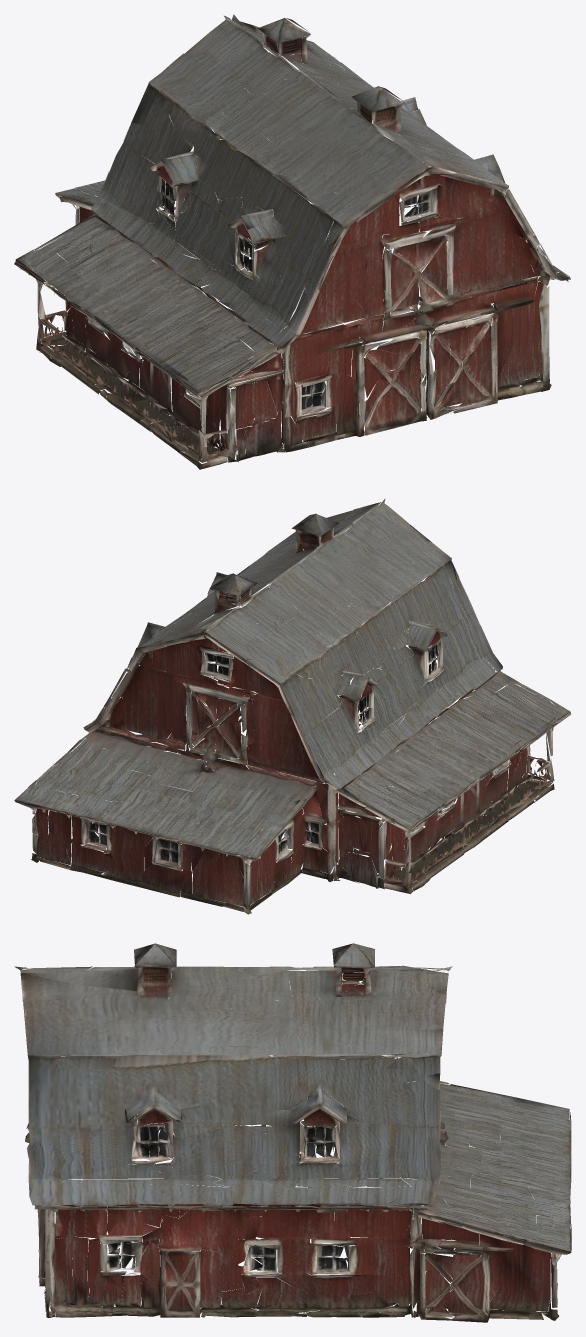
The model's file is barn.glb.
3 views of the same model, one above another, from view 1: azimuth 30°, elevation 25°; view 2: azimuth 150°, elevation 25°; view 3: azimuth 270°, elevation 25° (orthographic). The views are drawn at different scales.
Visible parts, largest first — view 1: barn; view 2: barn; view 3: barn.
Part boxes in pixels (x1,y1,x2,y2): barn: (14, 14, 570, 469); barn: (14, 499, 571, 914); barn: (14, 943, 571, 1322).
Bounding box in the file's own units: 10.88 × 8 × 12.89.
1 material, 1 textured.
